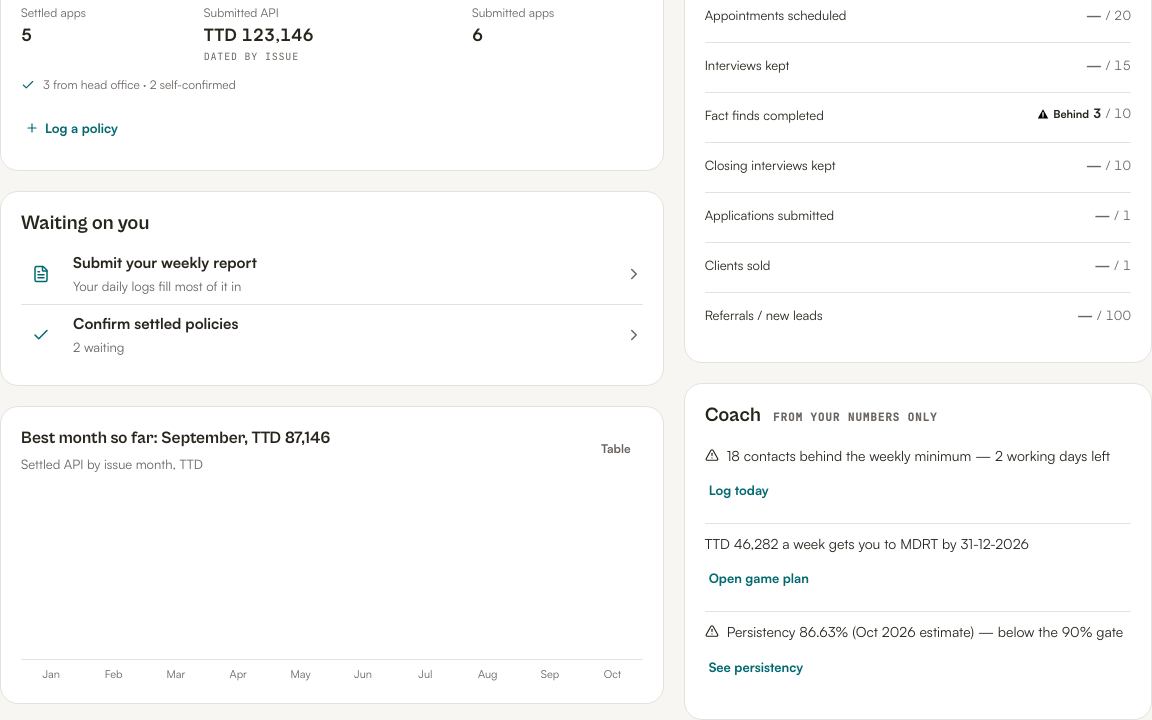
Scenario: FrTodayView — data › monthly chart: takeaway title and a Table toggle
(page scrolled)
Expected: the heading "Best month so far: September, TTD 87,146" is shown, [21,427,330,451]
Click the button "Table".
click(616, 449)  # box [589,427,643,471]
(page scrolled)
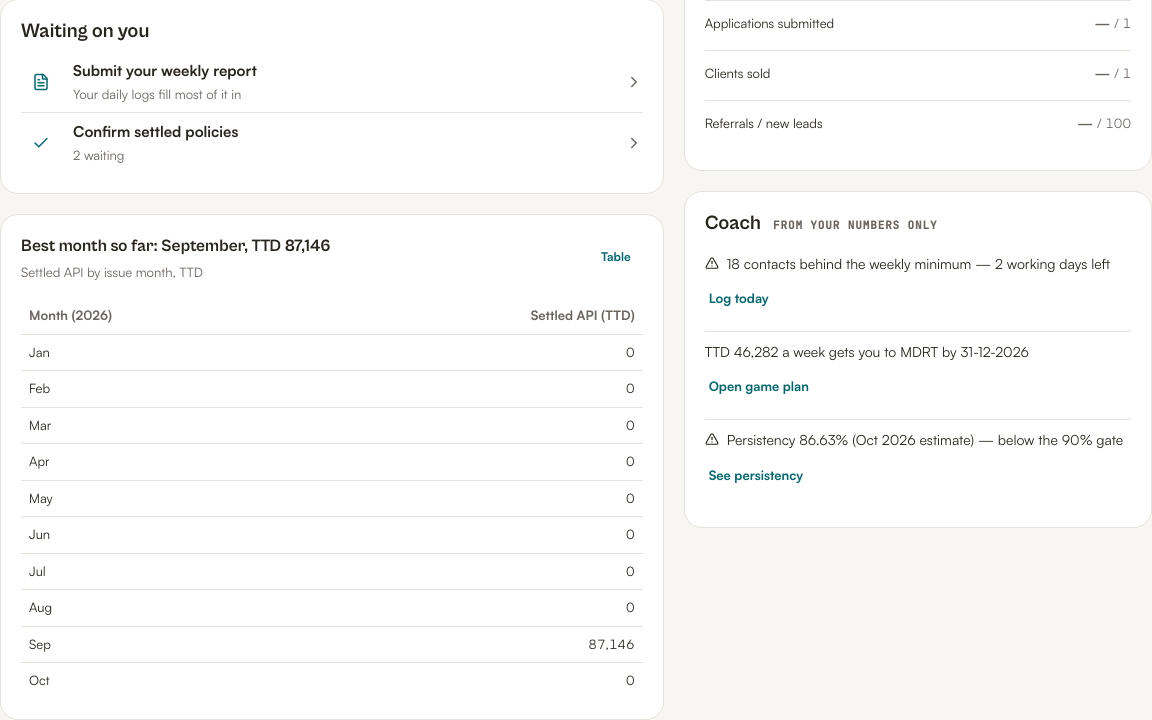
Now the table is shown, box [21,298,643,699]
